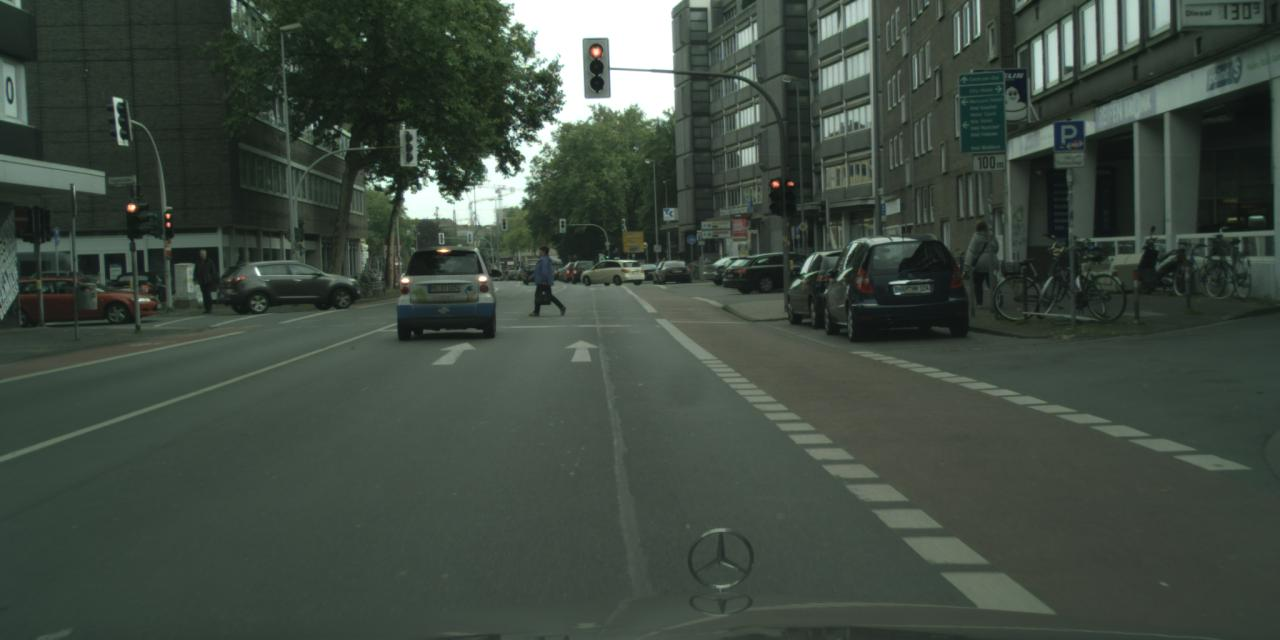ped: (968, 220, 1003, 304), (532, 245, 560, 313), (192, 250, 217, 312), (659, 257, 666, 277), (654, 258, 660, 276)
